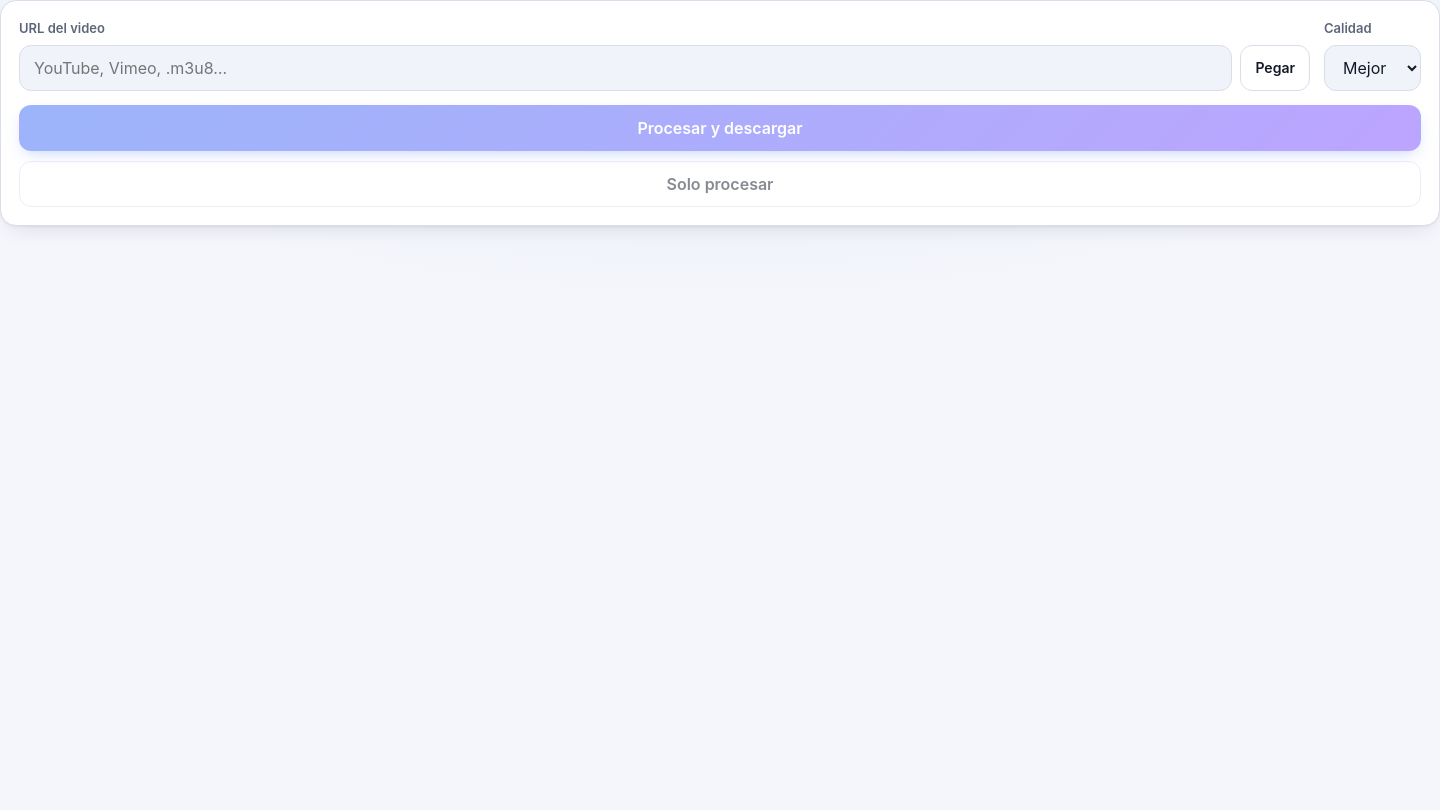
Scenario: JobForm › pegar y enlace de ejemplo › Pegar ignora texto que no es un enlace (y avisa)
Click the button "Pegar": (1275,68) [1240,44,1310,90]
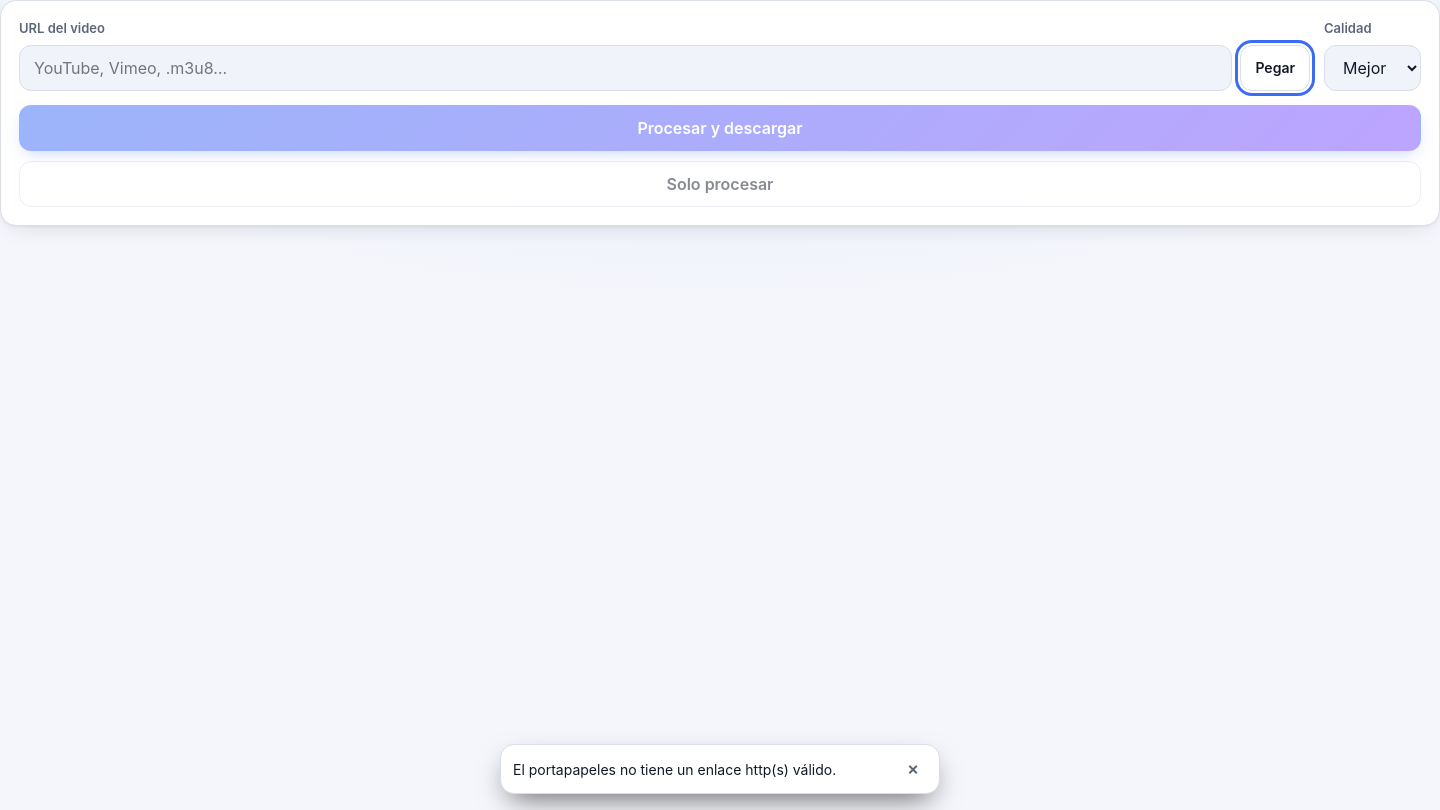
Expected: the field labelled "URL del video" is empty, [19,44,1232,90]
Expected: the text "El portapapeles no tiene un enlace http(s) válido." is shown, [513,758,889,780]
